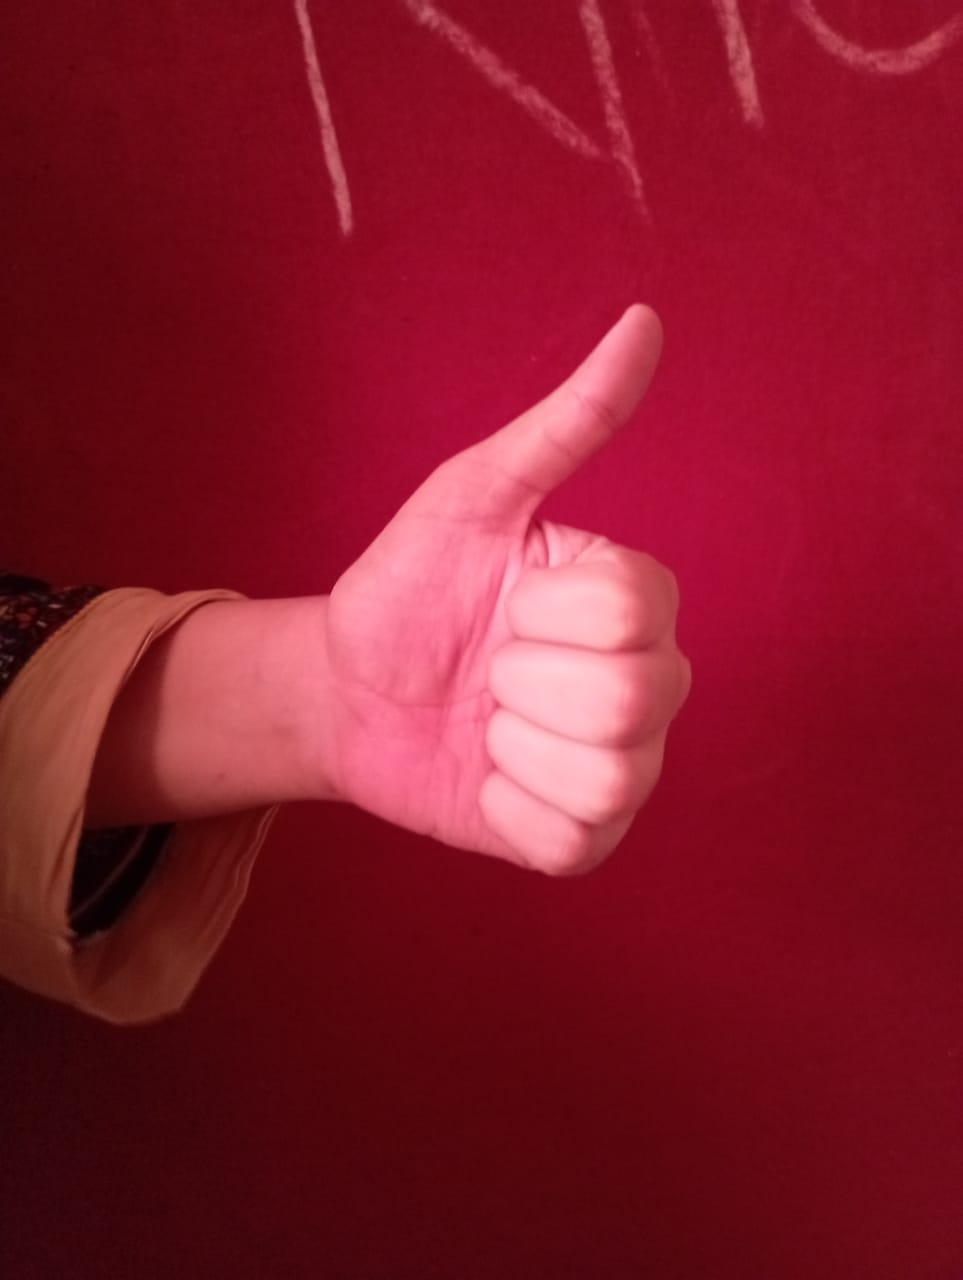I Like It: (313, 276, 703, 923)
